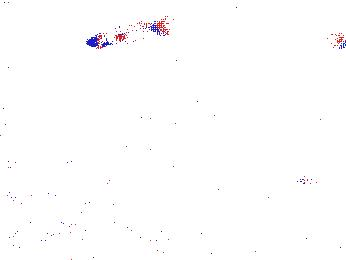red belly glassfish: (203, 50, 254, 73), (294, 174, 330, 186)
redtail glassfish: (86, 14, 166, 50), (329, 25, 346, 52)
